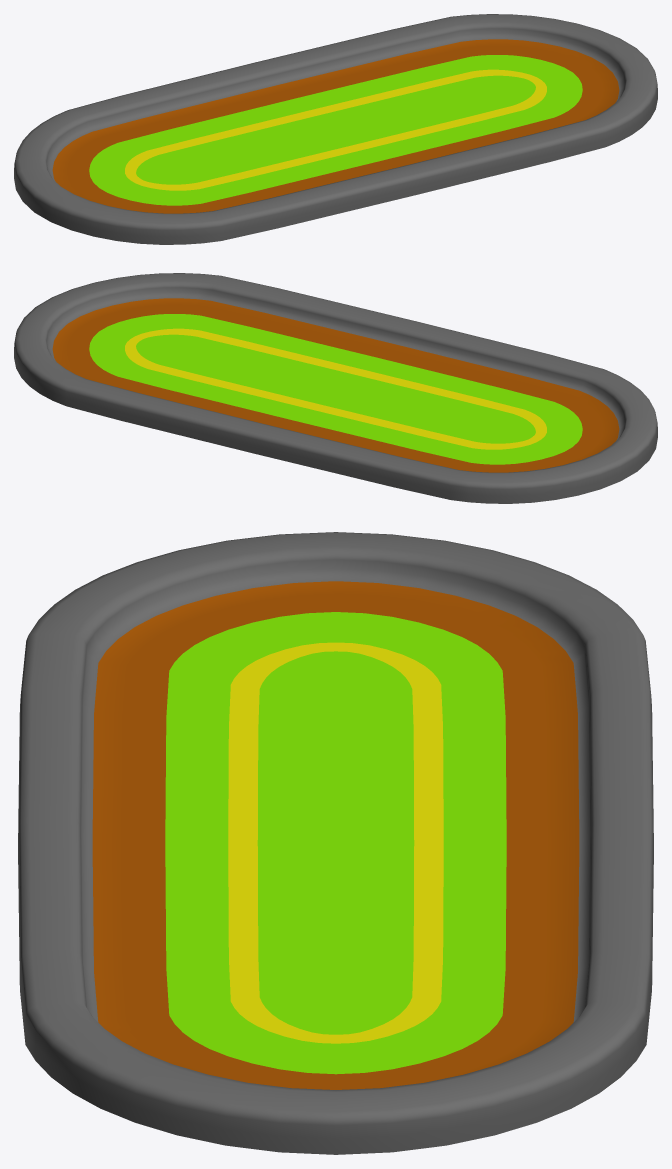
The model's file is Table.fbx.
The picture shows the model from 3 angles, top to bottom: view 1: azimuth 30°, elevation 25°; view 2: azimuth 150°, elevation 25°; view 3: azimuth 270°, elevation 25°; orthographic projection. The views are drawn at different scales.
Parts seen in each view (by area): view 1: Table; view 2: Table; view 3: Table.
Boxes of the visible parts, x1=… form: Table: x1=14, y1=14, x2=657, y2=244; Table: x1=14, y1=273, x2=657, y2=503; Table: x1=18, y1=532, x2=653, y2=1154.
Size of the model in its own units: 4.97 by 0.1653 by 2.27.
